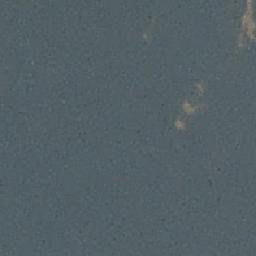debris: (173, 86, 205, 129), (238, 1, 256, 42)
